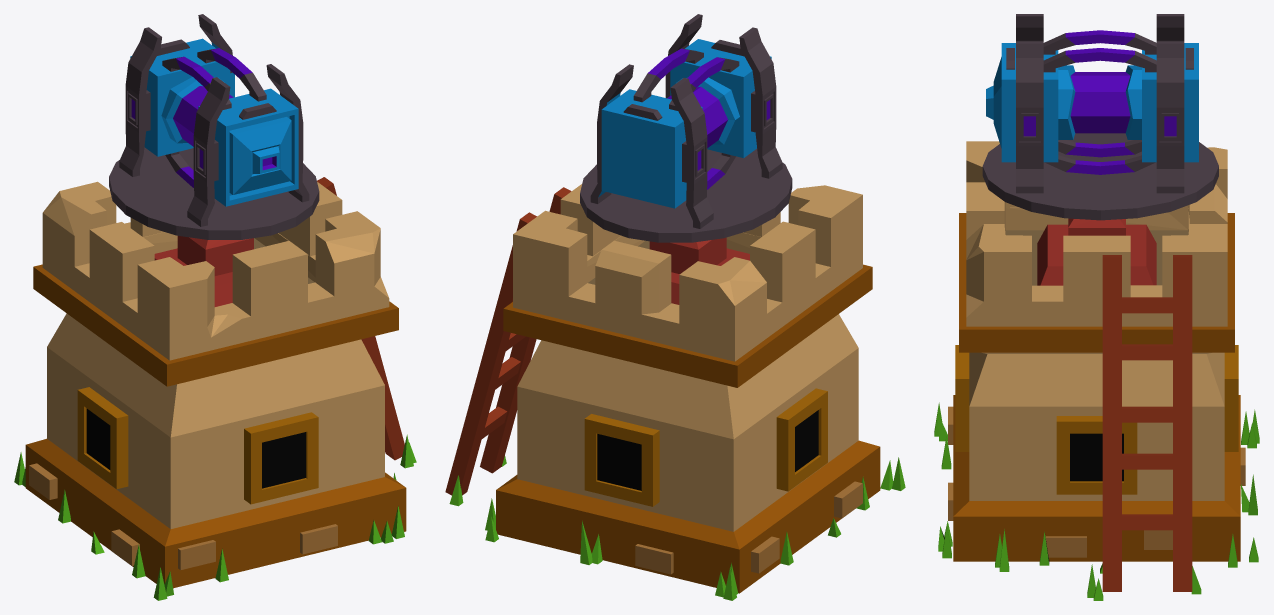
Rendered from freezing tower.fbx.
The picture shows the model from 3 angles, left to right: view 1: azimuth 30°, elevation 25°; view 2: azimuth 150°, elevation 25°; view 3: azimuth 270°, elevation 25°; orthographic projection. The views are drawn at different scales.
Visible parts, largest first — view 1: polySurface1, freeze, polySurface12, polySurface3, polySurface4, polySurface13, polySurface7, polySurface8, polySurface9, polySurface11; view 2: polySurface1, freeze, polySurface12, polySurface3, polySurface14, polySurface4, polySurface13, polySurface10, polySurface11, polySurface9; view 3: polySurface1, freeze, polySurface12, polySurface13, polySurface14, polySurface4, polySurface3, polySurface5, polySurface15, polySurface16, polySurface17, polySurface18 (+2 smaller).
Part boxes in pixels (box(x1,y1,x2,y2)): polySurface1: box(25, 181, 406, 588); freeze: box(109, 14, 319, 306); polySurface12: box(33, 264, 398, 386); polySurface3: box(244, 412, 318, 504); polySurface4: box(77, 387, 128, 489); polySurface13: box(317, 177, 404, 460); polySurface7: box(300, 524, 337, 554); polySurface8: box(178, 540, 215, 570); polySurface9: box(29, 463, 57, 499); polySurface11: box(111, 529, 139, 565); polySurface1: box(496, 184, 880, 593); freeze: box(580, 14, 792, 304); polySurface12: box(503, 264, 872, 387); polySurface3: box(584, 414, 659, 506); polySurface14: box(445, 212, 536, 495); polySurface4: box(776, 388, 827, 491); polySurface13: box(480, 187, 571, 473); polySurface10: box(635, 544, 673, 574); polySurface11: box(834, 481, 862, 518); polySurface9: box(751, 536, 779, 573); polySurface1: box(953, 141, 1240, 561); freeze: box(982, 14, 1218, 285); polySurface12: box(959, 213, 1234, 352); polySurface13: box(1102, 255, 1121, 591); polySurface14: box(1173, 255, 1192, 591); polySurface4: box(1056, 416, 1137, 494); polySurface3: box(955, 345, 1238, 451); polySurface5: box(1045, 536, 1086, 557); polySurface15: box(1122, 297, 1172, 313); polySurface16: box(1122, 344, 1172, 360); polySurface17: box(1122, 406, 1172, 422); polySurface18: box(1122, 453, 1172, 469).
Bounding box in the file's own units: 474 × 617 × 386.
